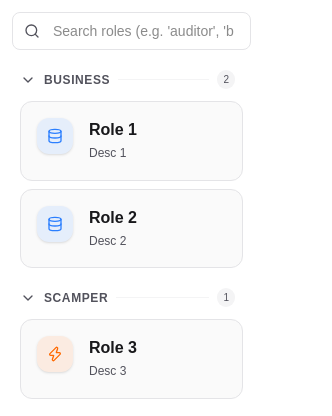
Test: RoleSelector Component › collapses and expands categories
The width and height of the screenshot is (332, 416).
Click the text "business" at (77,80), box [44, 72, 110, 88]
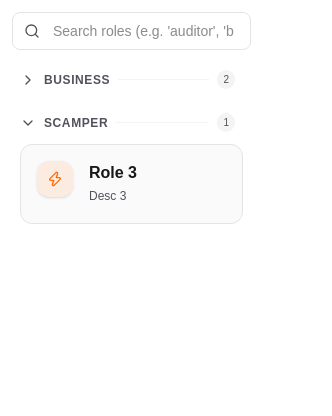
Now the button "Role 1" is gone
Click the text "business" at (77,80), box [44, 72, 110, 88]
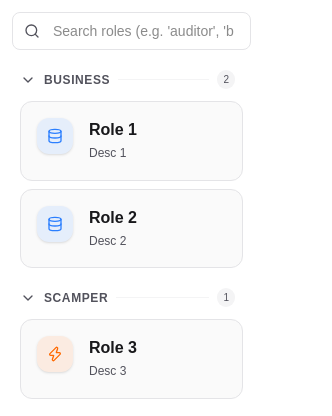
Now the text "Role 1" is shown, box [89, 118, 137, 142]
